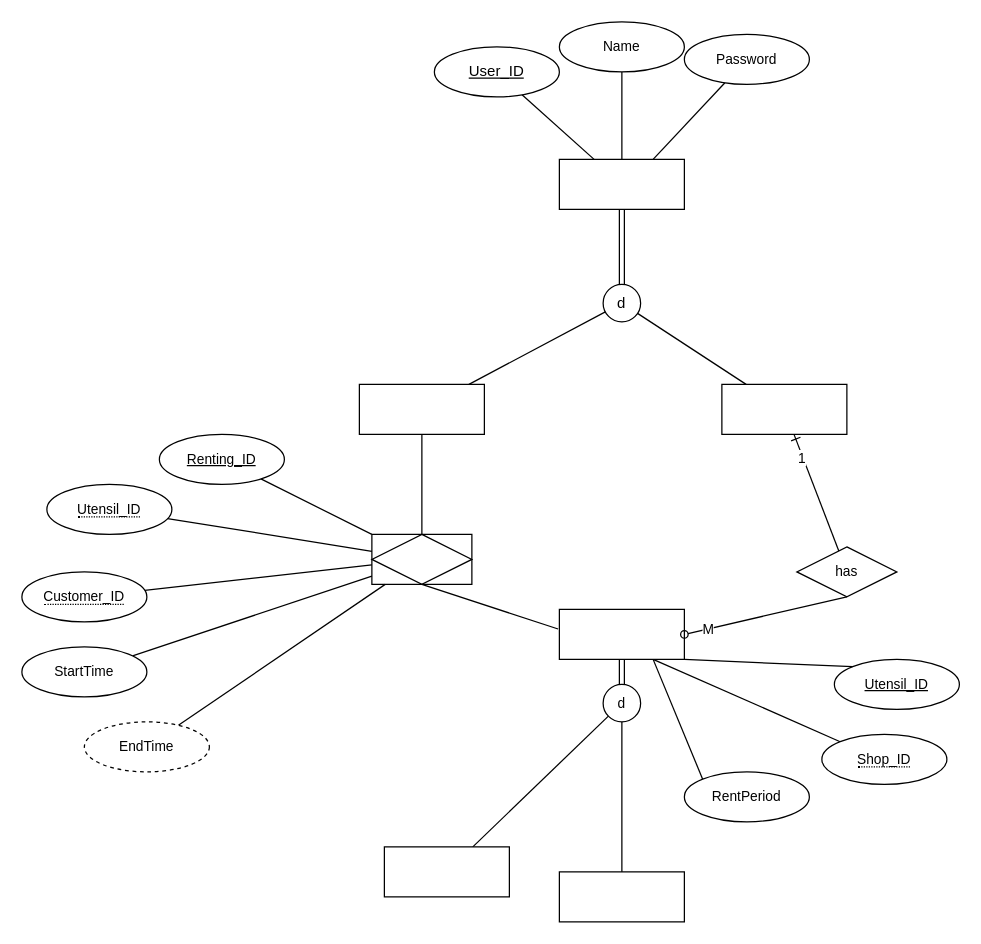
The diagram is 981 pixels wide and 944 high, and some of its shapes have lost their labels. Each missing label, with the centre of its shape:
Cup: point (621, 896)
Customer: point (421, 408)
EatingSet: point (446, 871)
Renting: point (421, 558)
Shops: point (784, 408)
User: point (621, 183)
Utensil: point (621, 633)
